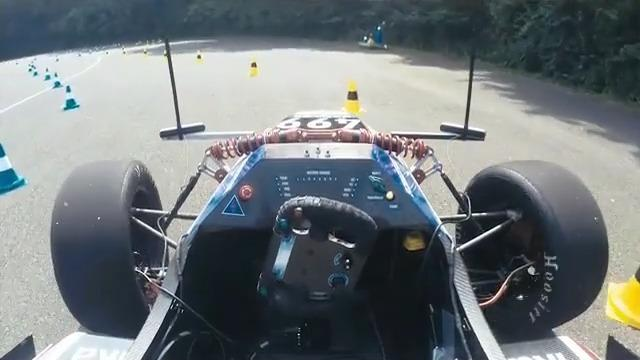blue_cone: (0, 138, 30, 197), (62, 85, 80, 112), (52, 72, 64, 88)
yellow_cone: (341, 80, 366, 116), (247, 57, 261, 76)
